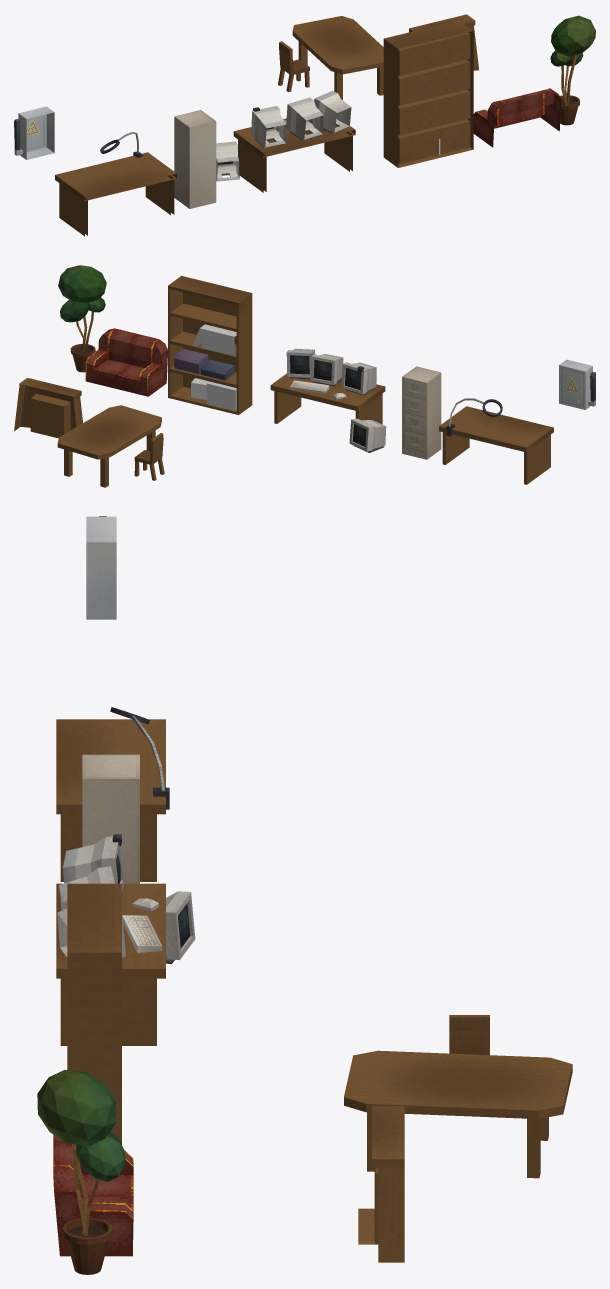
File: webca.fbx
3 views of the same model, one above another, from view 1: azimuth 30°, elevation 25°; view 2: azimuth 150°, elevation 25°; view 3: azimuth 270°, elevation 25° (orthographic). The views are drawn at different scales.
Visible parts, largest first — view 1: ШкафСп, Компьютерный стол.001, Стол, Cube.002, Компьютерный стол, Диван, Щиток, Цветок.001, Monitor.001, Monitor.002, Цветок, Monitor (+3 smaller); view 2: ШкафСп, Компьютерный стол.001, Диван, Стол, Cube.002, Камин, Компьютерный стол, Цветок.001, Щиток, Цветок, Одежда, Monitor.003 (+8 smaller); view 3: Стол, ШкафСп, Компьютерный стол.001, Компьютерный стол, Cube.002, Камин, Диван, Цветок.001, Цветок, Щиток, Monitor.002, Monitor.003 (+2 smaller).
Boxes of the visible parts, x1,y1,x2,y2 form: ШкафСп: (383,20,473,167); Компьютерный стол.001: (55,152,176,236); Стол: (292,16,383,99); Cube.002: (174,110,216,208); Компьютерный стол: (233,118,355,192); Диван: (473,88,561,147); Щиток: (18,106,54,159); Цветок.001: (551,15,595,56); Monitor.001: (286,97,323,139); Monitor.002: (251,106,286,147); Цветок: (550,50,583,125); Monitor: (314,90,351,133); ШкафСп: (168,276,252,414); Компьютерный стол.001: (439,406,553,484); Диван: (85,328,167,396); Стол: (57,405,161,487); Cube.002: (402,366,441,459); Камин: (14,378,82,438); Компьютерный стол: (270,373,385,424); Цветок.001: (58,265,106,303); Щиток: (559,359,592,409); Цветок: (60,297,105,372); Одежда: (174,349,234,380); Monitor.003: (349,418,386,452); Стол: (344,1050,572,1178); ШкафСп: (67,883,121,1144); Компьютерный стол.001: (56,719,165,881); Компьютерный стол: (56,883,165,1045); Cube.002: (82,754,139,883); Камин: (358,1106,404,1262); Диван: (53,1135,133,1256); Цветок.001: (37,1070,116,1146); Цветок: (62,1131,125,1274); Щиток: (86,516,116,619); Monitor.002: (63,836,123,891); Monitor.003: (166,891,195,964).
Bounding box in the file's own units: 1063 × 243 × 456.
